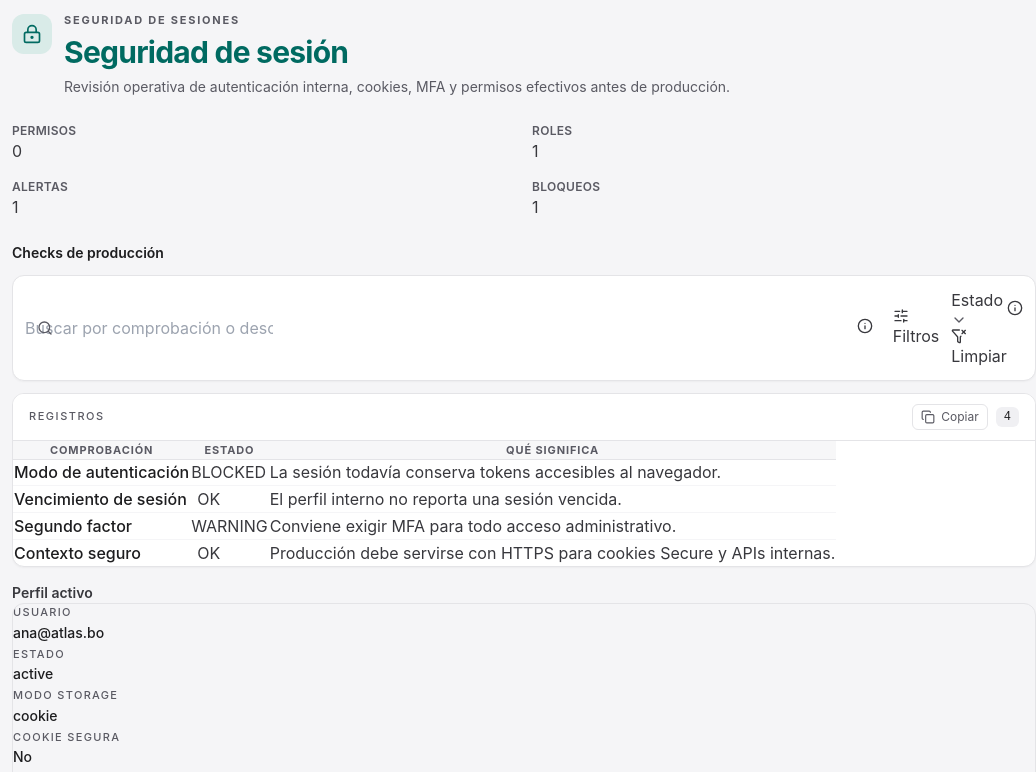
SessionSecurityPage · checks de producción › un texto que nada contiene dice que nada coincide, no que no hay comprobaciones
The image size is (1036, 772).
Type "zzzz" into the field labelled "Buscar por comprobación o descripción…".
click(149, 328); type("zzzz")  # box [25,316,273,340]
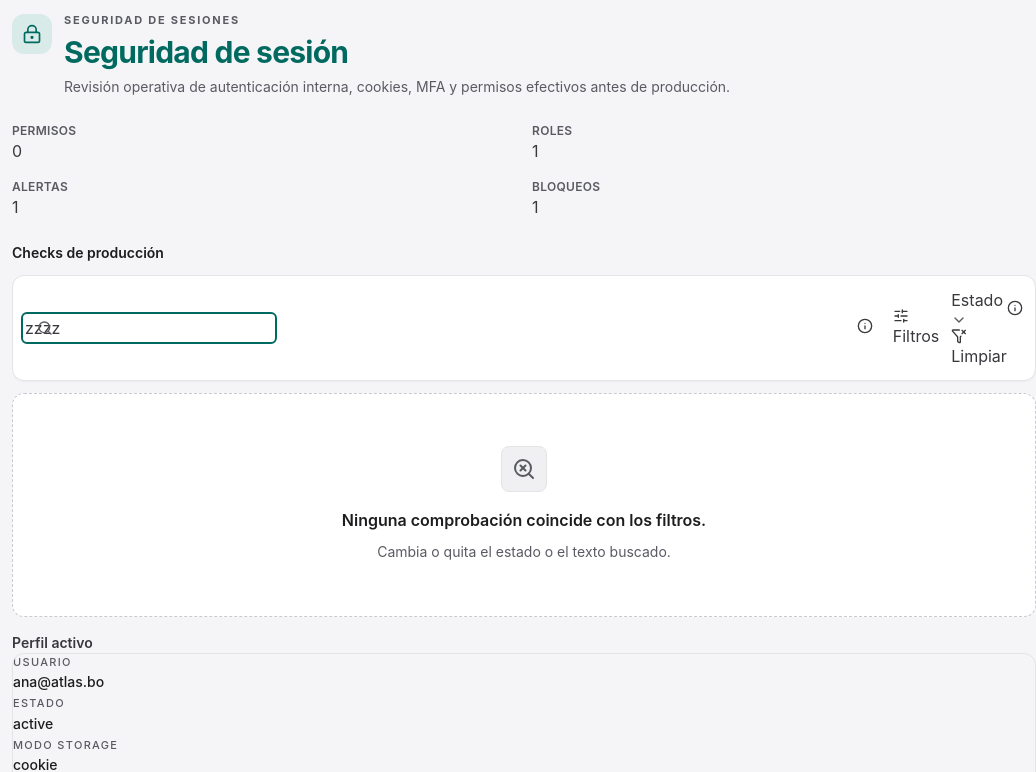
Expected: the heading "Ninguna comprobación coincide con los filtros." is shown, [342,508,706,532]
